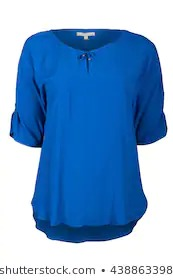C_blouse: (9, 29, 169, 241)
